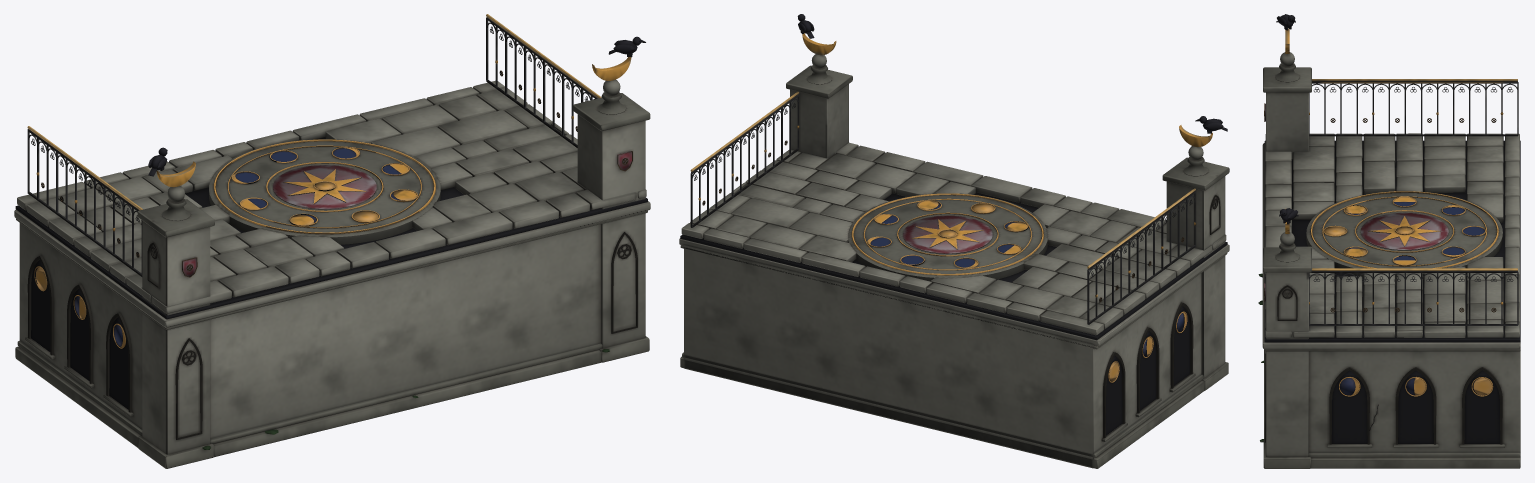
The model's file is EntranceMoonPorch.fbx.
The picture shows the model from 3 angles, left to right: view 1: azimuth 30°, elevation 25°; view 2: azimuth 150°, elevation 25°; view 3: azimuth 270°, elevation 25°; orthographic projection. The views are drawn at different scales.
Parts seen in each view (by area): view 1: EntranceMoonPorch_Main, EntranceMoonPorch_Deck, EntranceMoonPorch_RailLeft, EntranceMoonPorch_RailRight; view 2: EntranceMoonPorch_Main, EntranceMoonPorch_Deck, EntranceMoonPorch_RailLeft, EntranceMoonPorch_RailRight; view 3: EntranceMoonPorch_Deck, EntranceMoonPorch_Main, EntranceMoonPorch_RailLeft, EntranceMoonPorch_RailRight.
Boxes of the visible parts, x1,y1,x2,y2 form: EntranceMoonPorch_Main: [19, 36, 650, 468]; EntranceMoonPorch_Deck: [14, 80, 650, 457]; EntranceMoonPorch_RailLeft: [27, 126, 142, 276]; EntranceMoonPorch_RailRight: [486, 14, 601, 147]; EntranceMoonPorch_Main: [684, 14, 1229, 468]; EntranceMoonPorch_Deck: [679, 142, 1229, 468]; EntranceMoonPorch_RailLeft: [1087, 188, 1196, 324]; EntranceMoonPorch_RailRight: [690, 91, 799, 227]; EntranceMoonPorch_Deck: [1262, 133, 1520, 468]; EntranceMoonPorch_Main: [1258, 14, 1520, 468]; EntranceMoonPorch_RailLeft: [1309, 79, 1518, 136]; EntranceMoonPorch_RailRight: [1309, 268, 1518, 325].
Bounding box in the file's own units: 1931 × 1137 × 1040.
